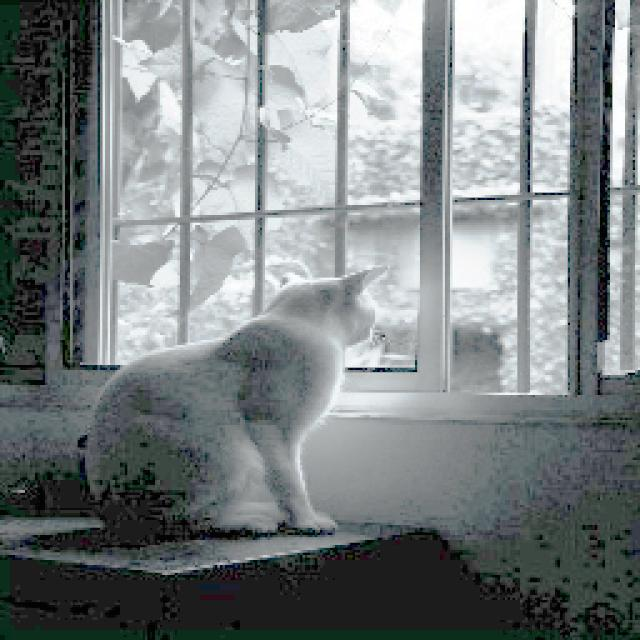cat: (73, 265, 393, 544)
